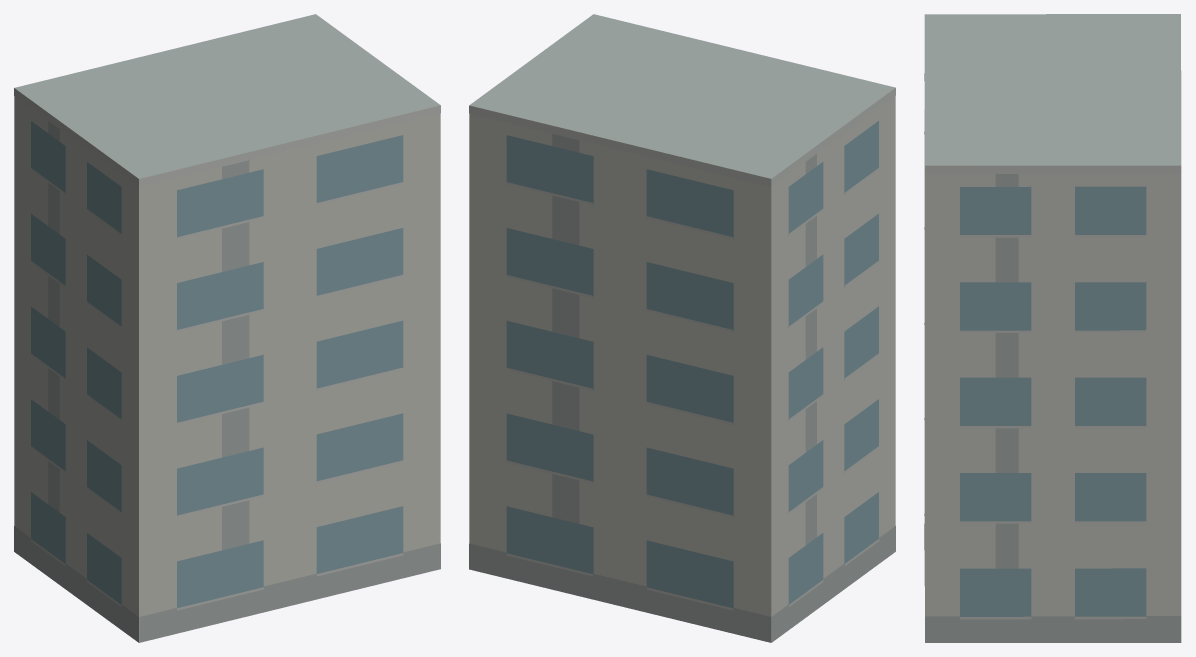
The model's file is survey-upis-32728805.glb.
3 renders of one model, left to right at view 1: azimuth 30°, elevation 25°; view 2: azimuth 150°, elevation 25°; view 3: azimuth 270°, elevation 25°, orthographic. The views are drawn at different scales.
Visible parts, largest first — view 1: survey-upis-32728805.tmp; view 2: survey-upis-32728805.tmp; view 3: survey-upis-32728805.tmp.
Boxes of the visible parts, left/top/right/bottom form: survey-upis-32728805.tmp: left=14, top=14, right=440, bottom=642; survey-upis-32728805.tmp: left=469, top=14, right=895, bottom=642; survey-upis-32728805.tmp: left=924, top=14, right=1181, bottom=642.
Size of the model in its own units: 9.54 by 13.95 by 6.83.
